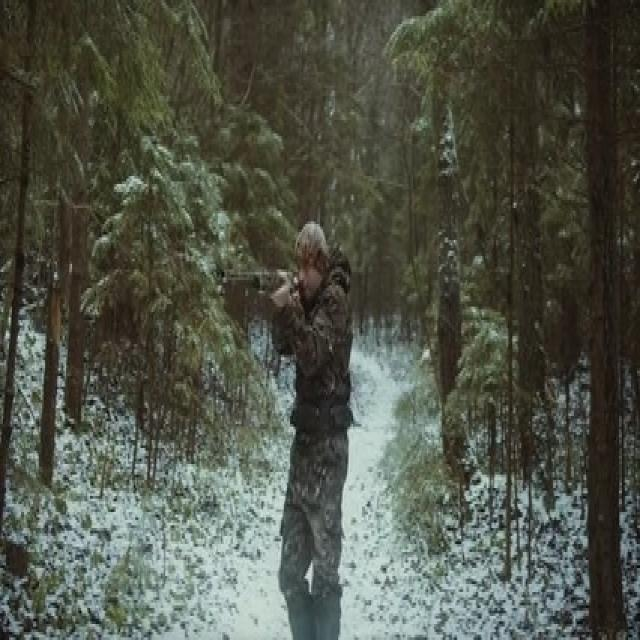Gun_Holder: (212, 259, 310, 301)
Person: (274, 219, 362, 640)
